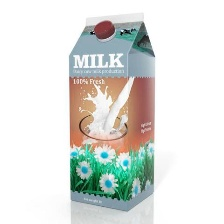carton: (62, 11, 159, 214)
